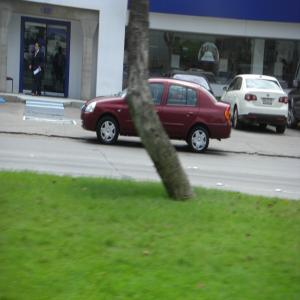Vehicle-registration-plate: (264, 98, 274, 106)
